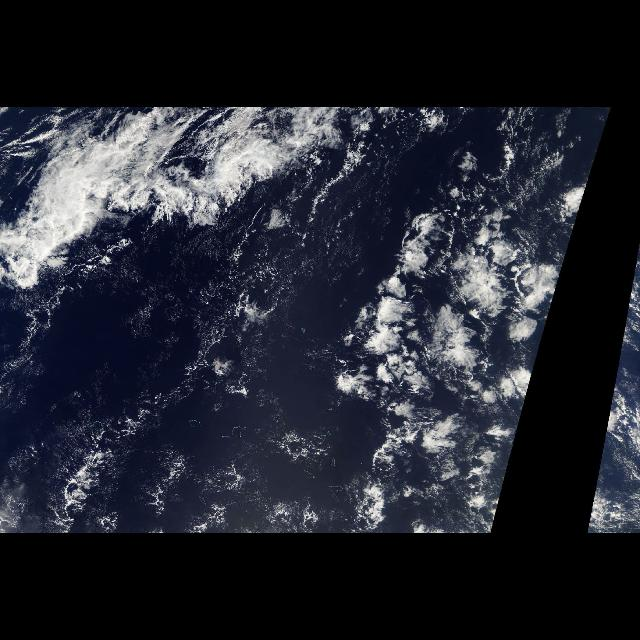Flower: (353, 195, 584, 531), (584, 259, 636, 531)
